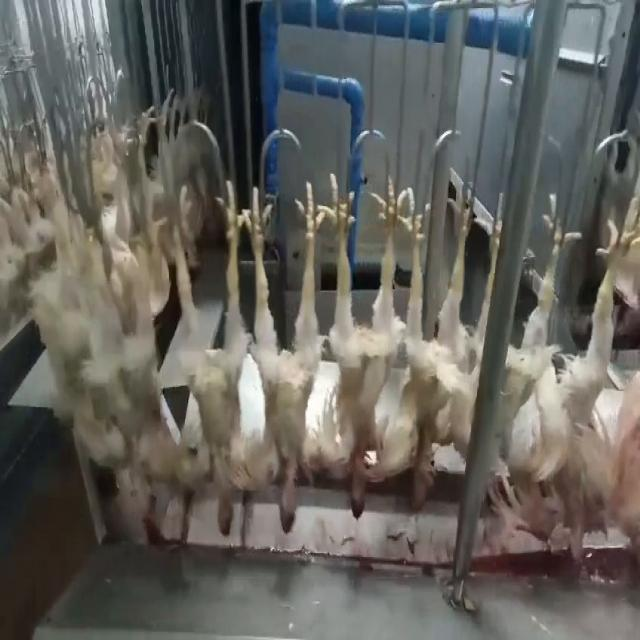chicken: (308, 169, 423, 526), (396, 176, 491, 510), (170, 174, 250, 534), (243, 172, 319, 531), (502, 201, 578, 551), (578, 198, 639, 552)
